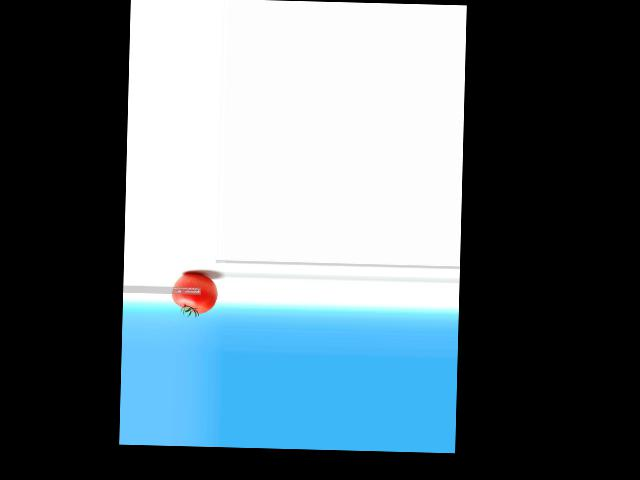tomato: (170, 273, 217, 313)
